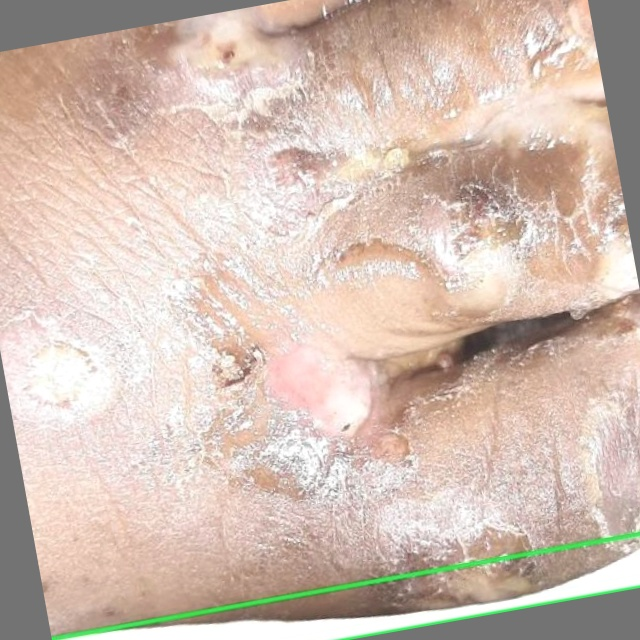Eczema: (52, 533, 639, 639)
